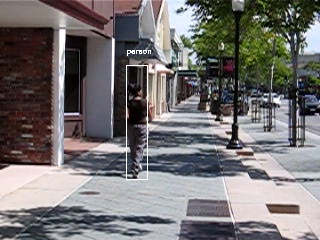person: (124, 85, 155, 179), (123, 85, 154, 179), (125, 85, 156, 179), (124, 84, 155, 178), (124, 86, 155, 180)
target_negative: (120, 25, 282, 83), (215, 53, 260, 132), (177, 105, 251, 136), (257, 45, 284, 95), (49, 221, 154, 222), (261, 195, 268, 199)
